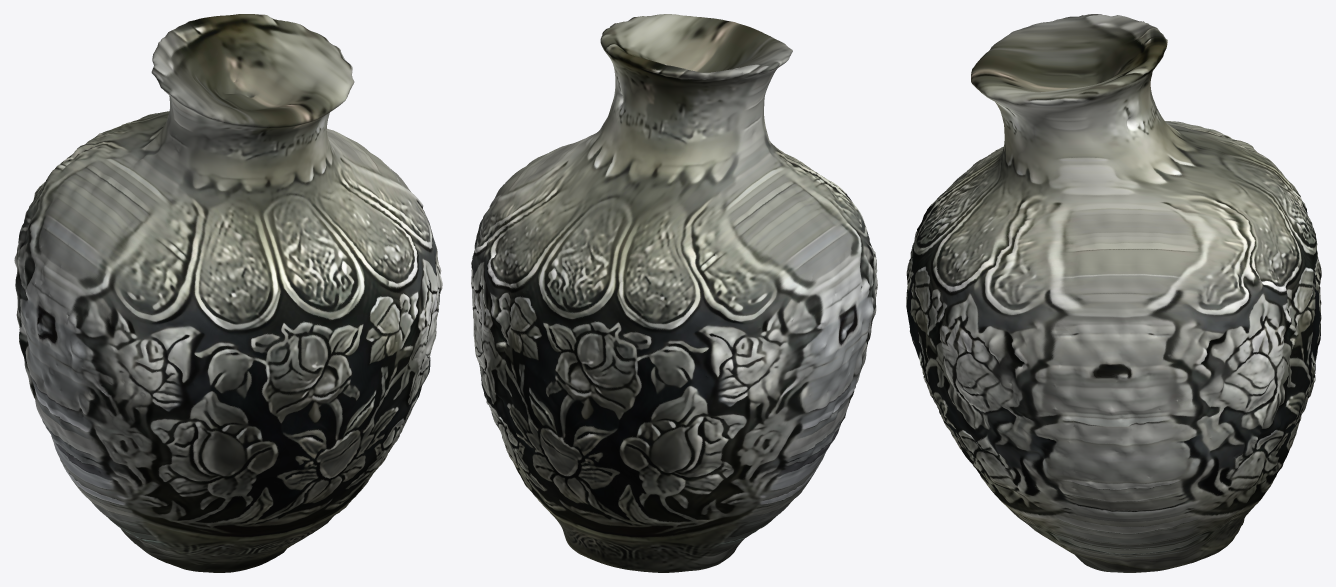
Rendered from kfl-2258.glb.
3 views of the same model, side by side, from view 1: azimuth 30°, elevation 25°; view 2: azimuth 150°, elevation 25°; view 3: azimuth 270°, elevation 25° (orthographic). The views are drawn at different scales.
Parts seen in each view (by area): view 1: kfl-2258; view 2: kfl-2258; view 3: kfl-2258.
Part boxes in pixels (left/top/right/bottom): kfl-2258: left=14, top=14, right=442, bottom=572; kfl-2258: left=471, top=14, right=877, bottom=572; kfl-2258: left=906, top=14, right=1321, bottom=572.
Bounding box in the file's own units: 0.7397 × 0.9956 × 0.7388.
1 material, 1 textured.
